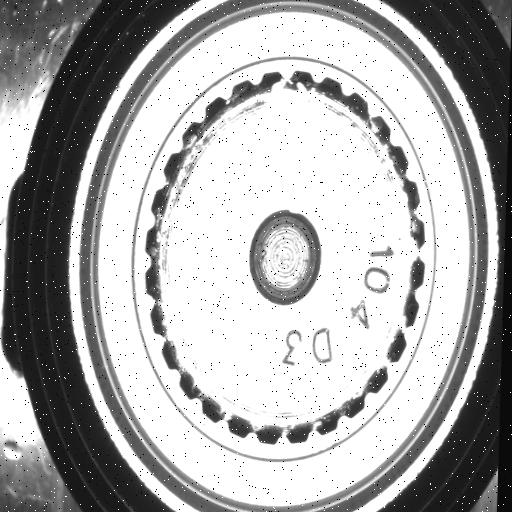gear: (138, 73, 432, 446)
